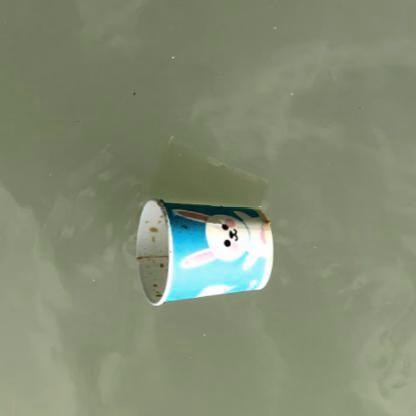Plastic: (130, 196, 276, 312)
